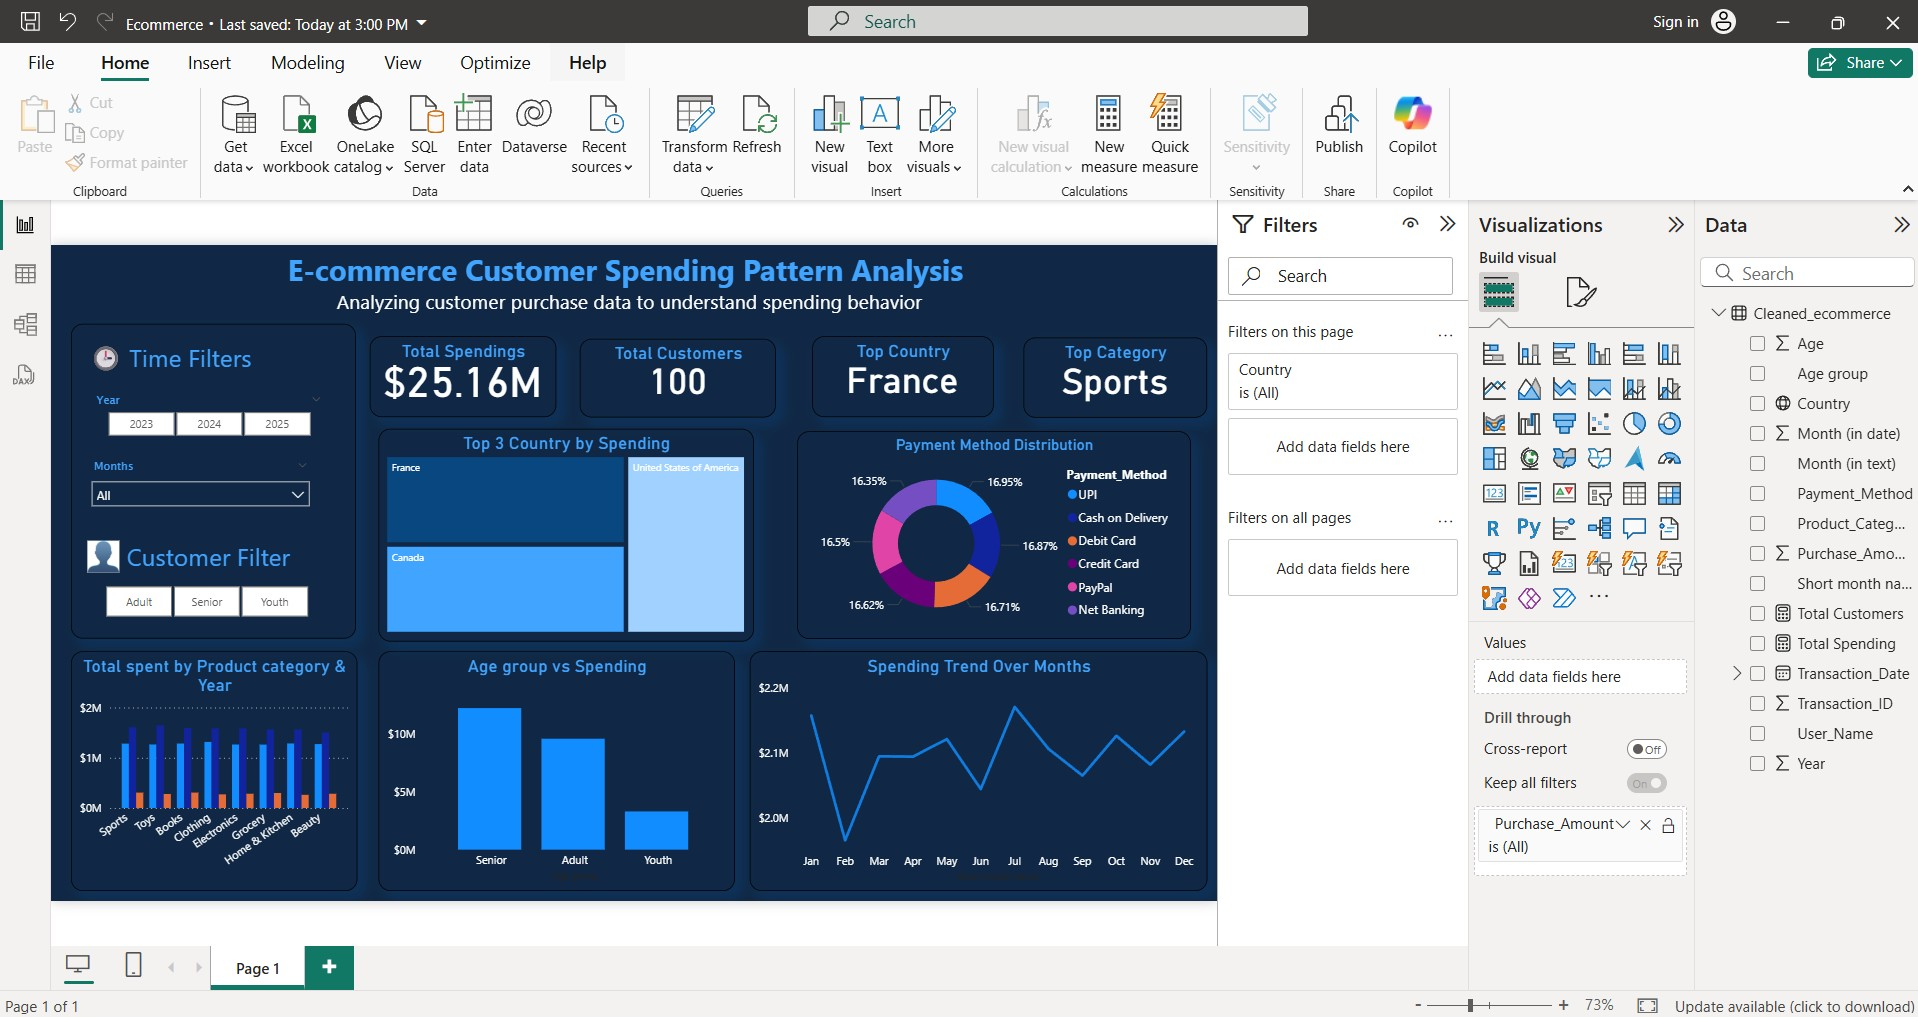

This screenshot's page, from the dashboard's own definition file:
{"tool":"powerbi","page":{"name":"Page 1","canvas":[1280,720],"ordinal":0},"visuals":[{"type":"clusteredColumnChart","title":"Total spent by Product category & Year ","fields":{"Category":["Cleaned_ecommerce.Product_Category"],"Y":["Sum(Cleaned_ecommerce.Purchase_Amount)"],"Series":["Cleaned_ecommerce.Year"]},"box":[22,446,314.2,263.5],"z":0},{"type":"card","title":"Total Spendings","fields":{"Values":["Sum(Cleaned_ecommerce.Purchase_Amount)"]},"box":[349.9,100.2,204.5,89.2],"z":1000},{"type":"card","title":"Top Category","fields":{"Values":["Min(Cleaned_ecommerce.Product_Category)"]},"box":[1067.6,101.5,201.7,87.8],"z":3000},{"type":"donutChart","title":"Payment Method Distribution ","fields":{"Category":["Cleaned_ecommerce.Payment_Method"],"Y":["CountNonNull(Cleaned_ecommerce.Transaction_ID)"]},"box":[819.2,203.9,431.9,228],"z":4000},{"type":"columnChart","title":"Age group vs Spending","fields":{"Category":["Cleaned_ecommerce.Age group "],"Y":["Sum(Cleaned_ecommerce.Purchase_Amount)"]},"box":[359.5,446.4,390.9,263],"z":5000},{"type":"lineChart","title":"Spending Trend Over Months ","fields":{"Category":["Cleaned_ecommerce.Short month name"],"Y":["Sum(Cleaned_ecommerce.Purchase_Amount)"]},"box":[767.1,446,502.2,263.5],"z":6000},{"type":"card","title":"Total Customers","fields":{"Values":["Cleaned_ecommerce.Total Customers"]},"box":[580.4,102.9,215.4,86.4],"z":7000},{"type":"treemap","title":"Top 3 Country by Spending ","fields":{"Group":["Cleaned_ecommerce.Country"],"Values":["Sum(Cleaned_ecommerce.Purchase_Amount)"]},"box":[359.5,201.7,411.7,233.3],"z":8000},{"type":"card","title":"Top Country","fields":{"Values":["Min(Cleaned_ecommerce.Country)"]},"box":[835.7,100.2,199,89.2],"z":9000},{"type":"textbox","box":[43.8,0,1182.2,100],"z":10000},{"type":"shape","box":[22,86.4,312.9,345.8],"z":12000},{"type":"textbox","box":[37,100.2,278.6,45.3],"z":13000},{"type":"slicer","fields":{"Values":["Cleaned_ecommerce.Year"]},"box":[37,156.4,271.7,59],"z":14000},{"type":"textbox","box":[34.3,318.4,290.9,46.7],"z":15000},{"type":"image","box":[34.3,319.7,46.7,45.3],"z":16000},{"type":"slicer","fields":{"Values":["Cleaned_ecommerce.Month (in text)"]},"box":[34.3,229.2,259.3,78.2],"z":17000},{"type":"slicer","fields":{"Values":["Cleaned_ecommerce.Age group "]},"box":[34.3,367.8,271.7,46.7],"z":17001}]}

Visuals, with their boxes on the page's 1280x720 design canvas (x1, y1, x2, y2). These are canvas units, not pixel positions in the 1918x1017 screenshot, which may show the page scaled, cropped or inside an application window:
"Total spent by Product category & Year " clusteredColumnChart: locate(22, 446, 336, 710)
"Total Spendings" card: locate(350, 100, 554, 189)
"Top Category" card: locate(1068, 102, 1269, 189)
"Payment Method Distribution " donutChart: locate(819, 204, 1251, 432)
"Age group vs Spending" columnChart: locate(360, 446, 750, 709)
"Spending Trend Over Months " lineChart: locate(767, 446, 1269, 710)
"Total Customers" card: locate(580, 103, 796, 189)
"Top 3 Country by Spending " treemap: locate(360, 202, 771, 435)
"Top Country" card: locate(836, 100, 1035, 189)
textbox: locate(44, 0, 1226, 100)
shape: locate(22, 86, 335, 432)
textbox: locate(37, 100, 316, 146)
slicer - Cleaned_ecommerce.Year: locate(37, 156, 309, 215)
textbox: locate(34, 318, 325, 365)
image: locate(34, 320, 81, 365)
slicer - Cleaned_ecommerce.Month (in text): locate(34, 229, 294, 307)
slicer - Cleaned_ecommerce.Age group : locate(34, 368, 306, 414)
